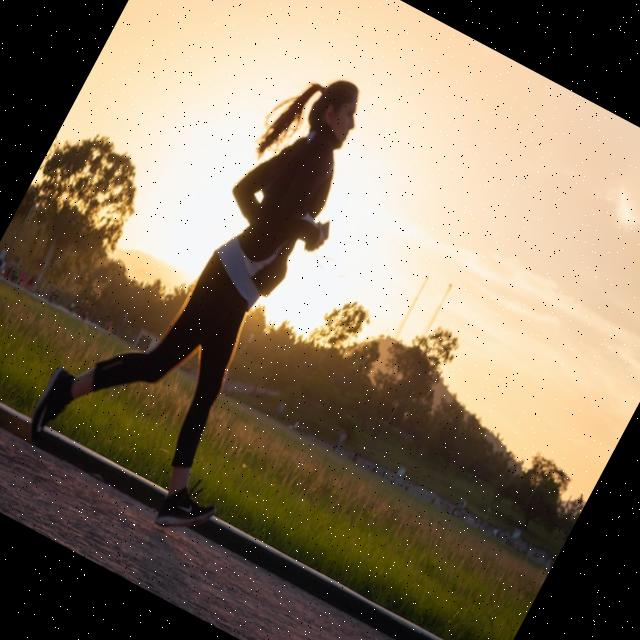Person: (11, 18, 427, 548)
